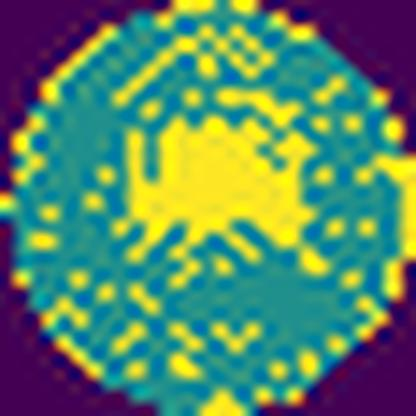Center: (117, 84, 326, 282)
